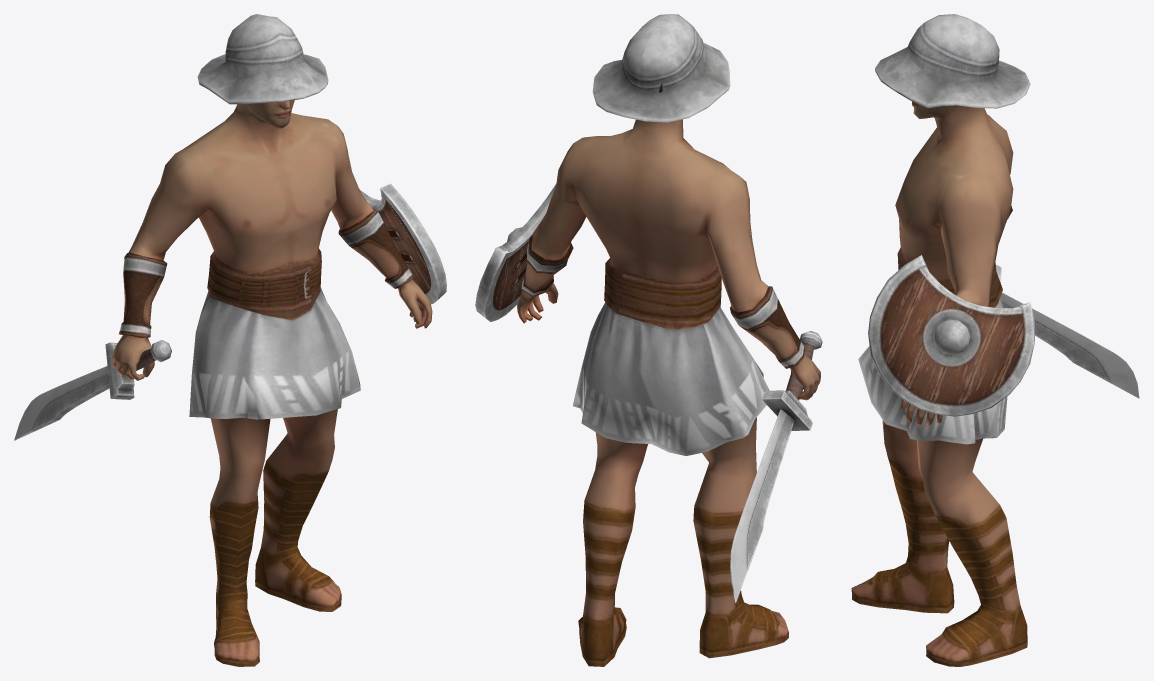
Rendered from 20-murmillo.glb.
3 views of the same model, side by side, from view 1: azimuth 30°, elevation 25°; view 2: azimuth 150°, elevation 25°; view 3: azimuth 270°, elevation 25° (orthographic). The views are drawn at different scales.
Size of the model in its own units: 1.17 by 2.11 by 0.8986.
Materials: 4 (4 with a texture image).
